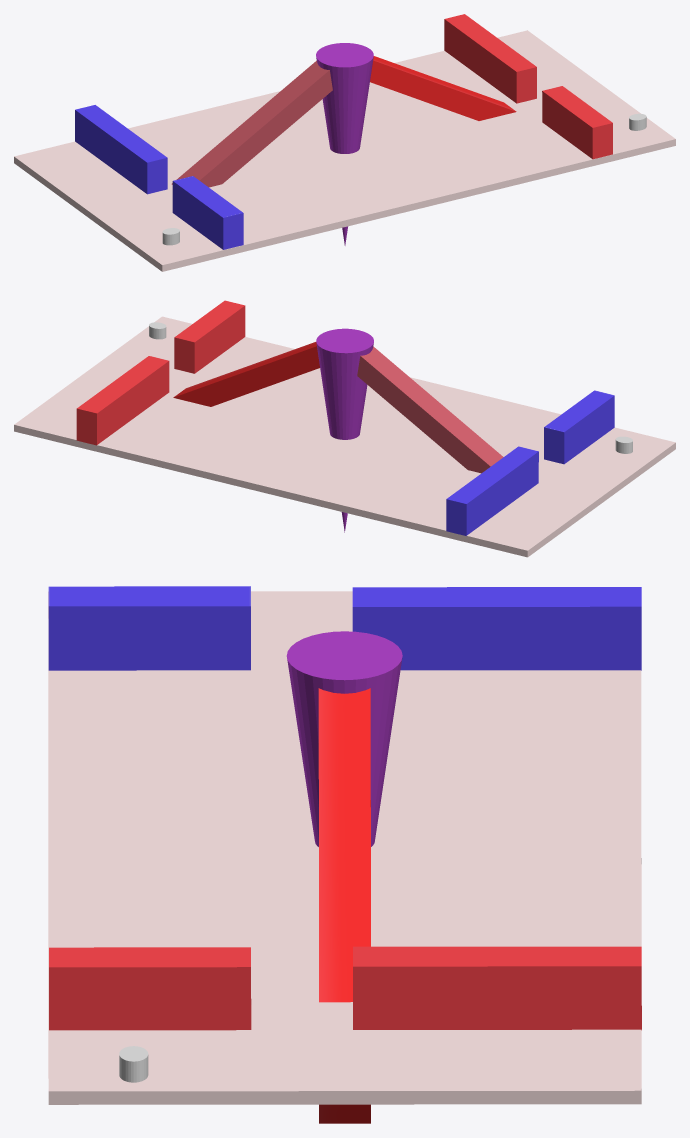
The model's file is Level3.gltf.
3 renders of one model, top to bottom at view 1: azimuth 30°, elevation 25°; view 2: azimuth 150°, elevation 25°; view 3: azimuth 270°, elevation 25°, orthographic. The views are drawn at different scales.
Parts seen in each view (by area): view 1: Ground, Ramp-B, CenterTower, Wall2-R, Wall2-B, Ramp-R, Wall-B, Wall-R; view 2: Ground, Ramp-B, CenterTower, Wall2-R, Wall2-B, Ramp-R, Wall-B, Wall-R; view 3: Ground, Wall2-R, Wall2-B, Wall-B, Wall-R, Ramp-R, CenterTower, Spawn-R.
Boxes of the visible parts, x1=… form: Ground: x1=14, y1=30, x2=675, y2=271; Ramp-B: x1=171, y1=61, x2=332, y2=187; CenterTower: x1=316, y1=43, x2=373, y2=245; Wall2-R: x1=444, y1=14, x2=536, y2=103; Wall2-B: x1=75, y1=105, x2=167, y2=194; Ramp-R: x1=370, y1=56, x2=516, y2=120; Wall-B: x1=172, y1=176, x2=243, y2=249; Wall-R: x1=542, y1=86, x2=612, y2=159; Ground: x1=14, y1=316, x2=675, y2=557; Ramp-B: x1=357, y1=346, x2=503, y2=473; CenterTower: x1=316, y1=328, x2=373, y2=532; Wall2-R: x1=76, y1=356, x2=169, y2=445; Wall2-B: x1=446, y1=446, x2=538, y2=535; Ramp-R: x1=173, y1=342, x2=319, y2=406; Wall-B: x1=544, y1=390, x2=614, y2=464; Wall-R: x1=174, y1=300, x2=245, y2=373; Ground: x1=48, y1=591, x2=641, y2=1104; Wall2-R: x1=353, y1=946, x2=641, y2=1030; Wall2-B: x1=352, y1=587, x2=641, y2=670; Wall-B: x1=48, y1=586, x2=250, y2=670; Wall-R: x1=49, y1=947, x2=251, y2=1030; Ramp-R: x1=318, y1=688, x2=370, y2=1123; CenterTower: x1=286, y1=631, x2=402, y2=846; Spawn-R: x1=119, y1=1046, x2=148, y2=1082.
Size of the model in its own units: 374 by 134 by 187.
Materials: 8 (8 with a texture image).
